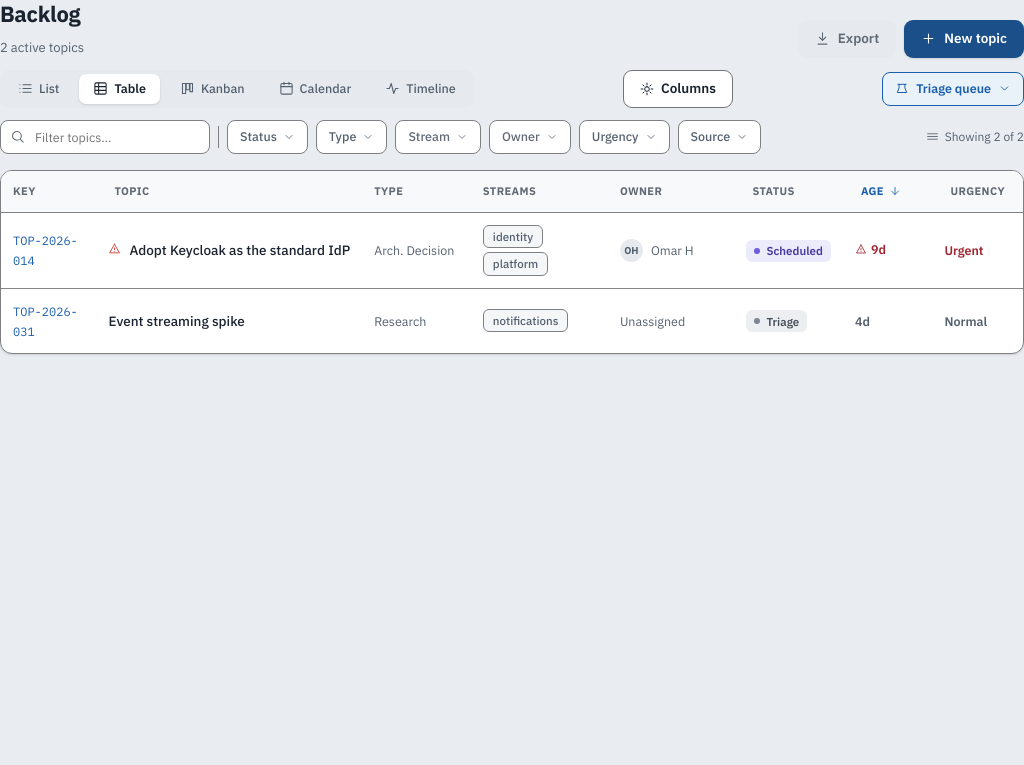
Scenario: Backlog (P5b) › renders the live calendar view chrome and says when no meeting is scheduled (FR-035)
Click the button "Calendar". click: (315, 88)
box: [265,74,365,104]
(page scrolled)
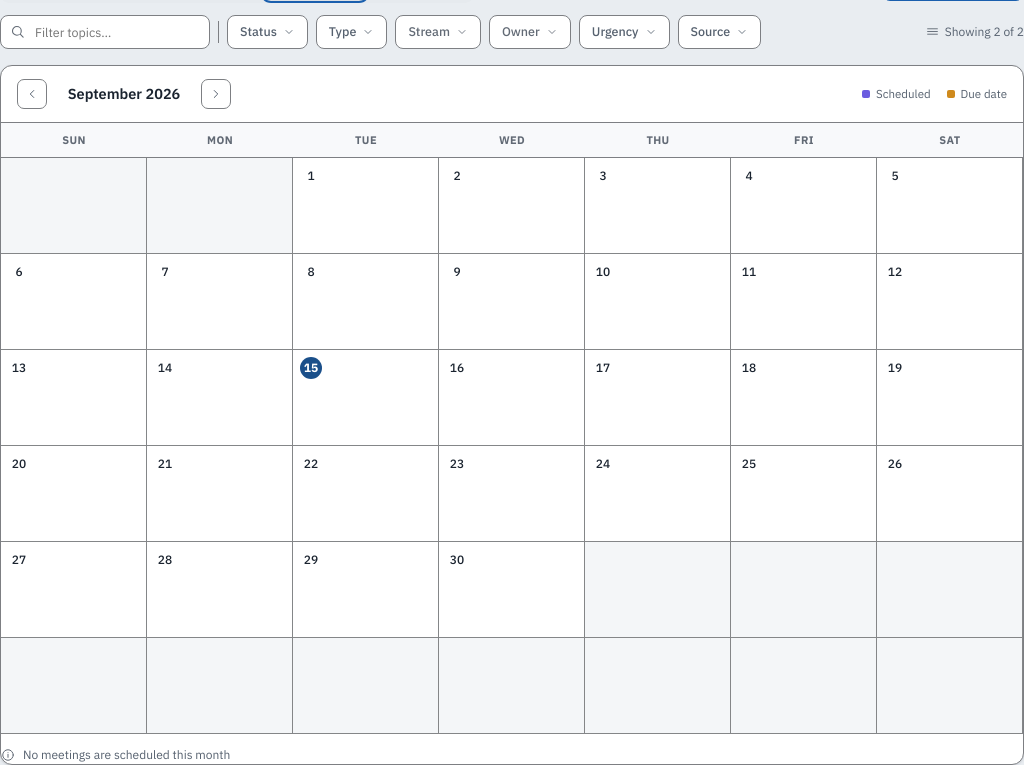
Check: the button named "Previous month" is shown, box [17,78,47,108]
Check: the element showing "No meetings are scheduled this month" is shown, box [1,747,230,762]
